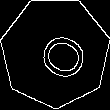O_NW: (24, 22, 87, 83)
